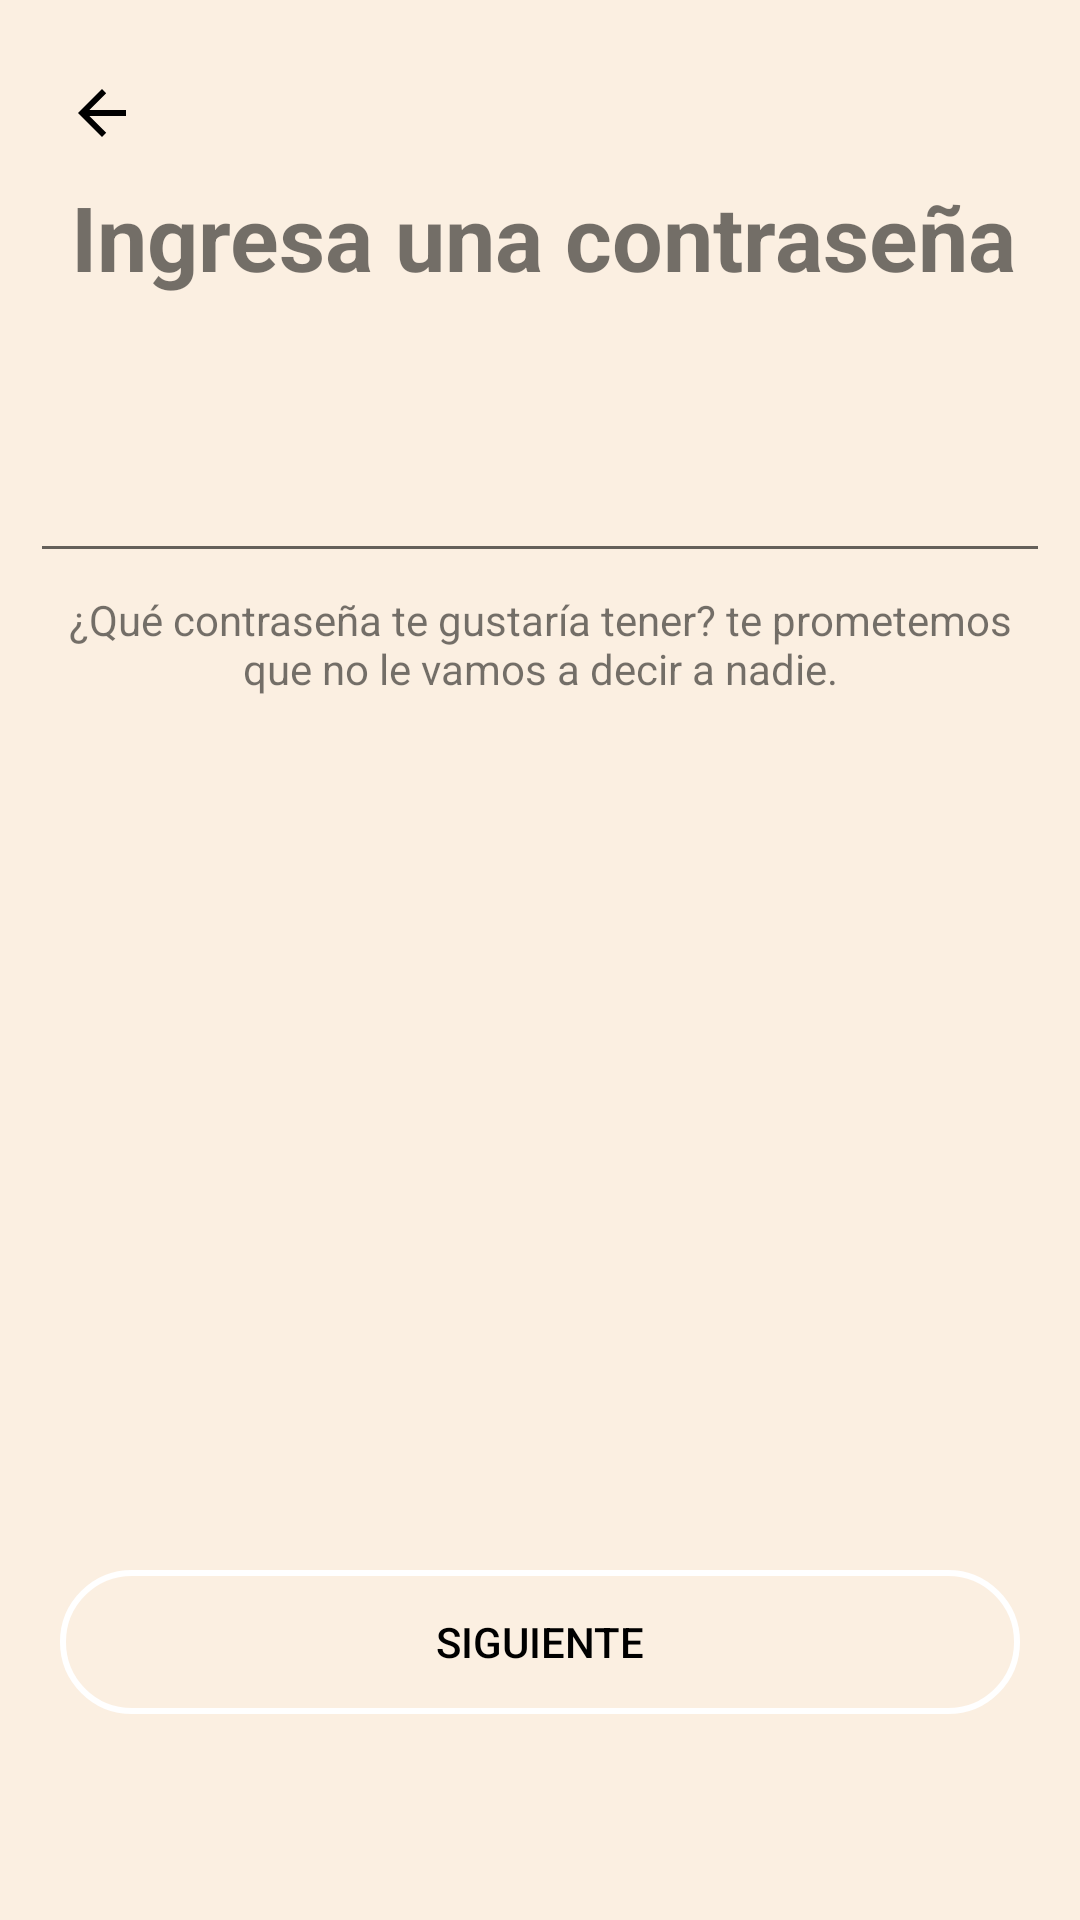

Icon click points for this 1080 × 1920 phone screenshot, format (x,y):
Volver atras: (102,113)
